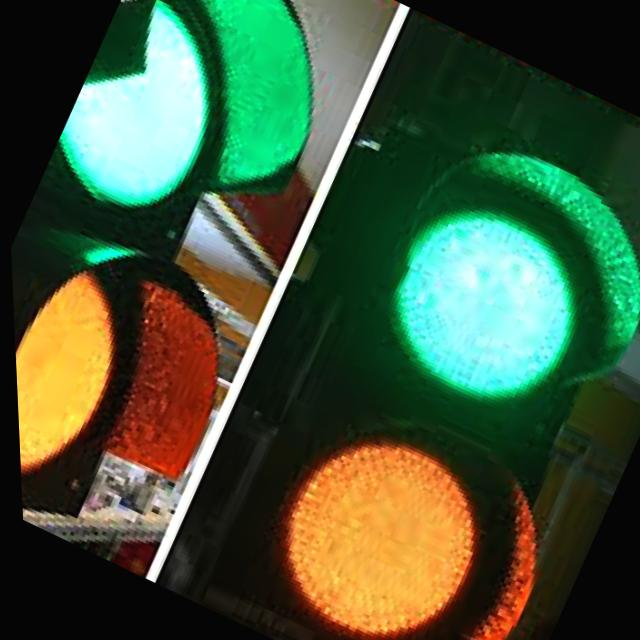Hijau: (353, 179, 612, 430), (35, 0, 257, 231)
Kuning: (246, 410, 504, 640), (8, 227, 151, 505)
